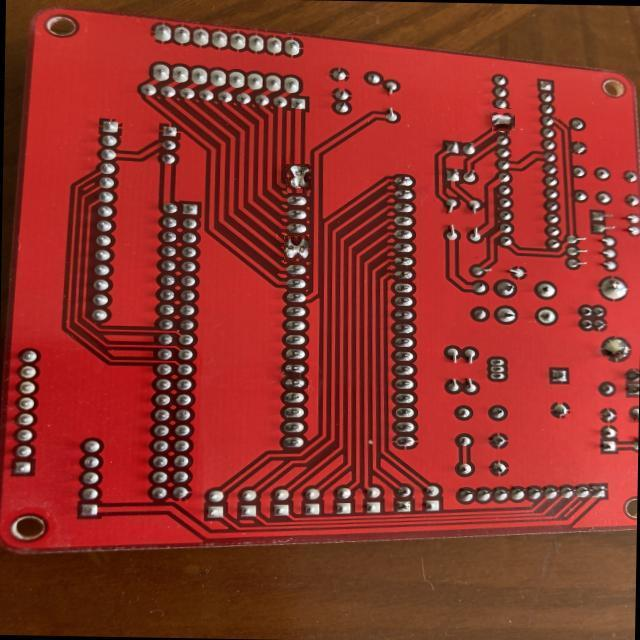damged: (286, 164, 311, 193), (284, 237, 310, 262), (492, 109, 514, 132)
